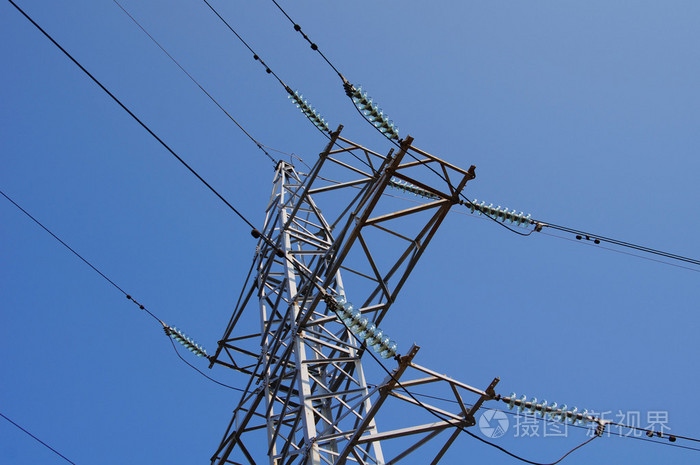insulator: (332, 293, 399, 360), (505, 391, 589, 427), (351, 87, 401, 137), (467, 199, 534, 229), (288, 88, 329, 134), (390, 177, 437, 204), (168, 326, 207, 358)
